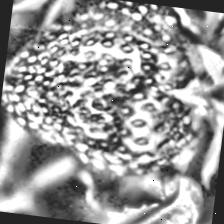Anthracnose Fruit Rot: (0, 0, 220, 171)
